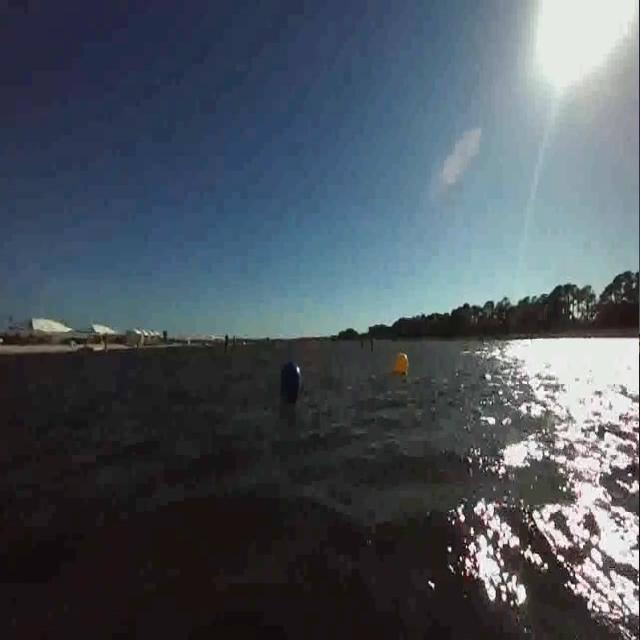blue-buoy: (281, 360, 300, 392)
yellow-buoy: (394, 350, 408, 376)
